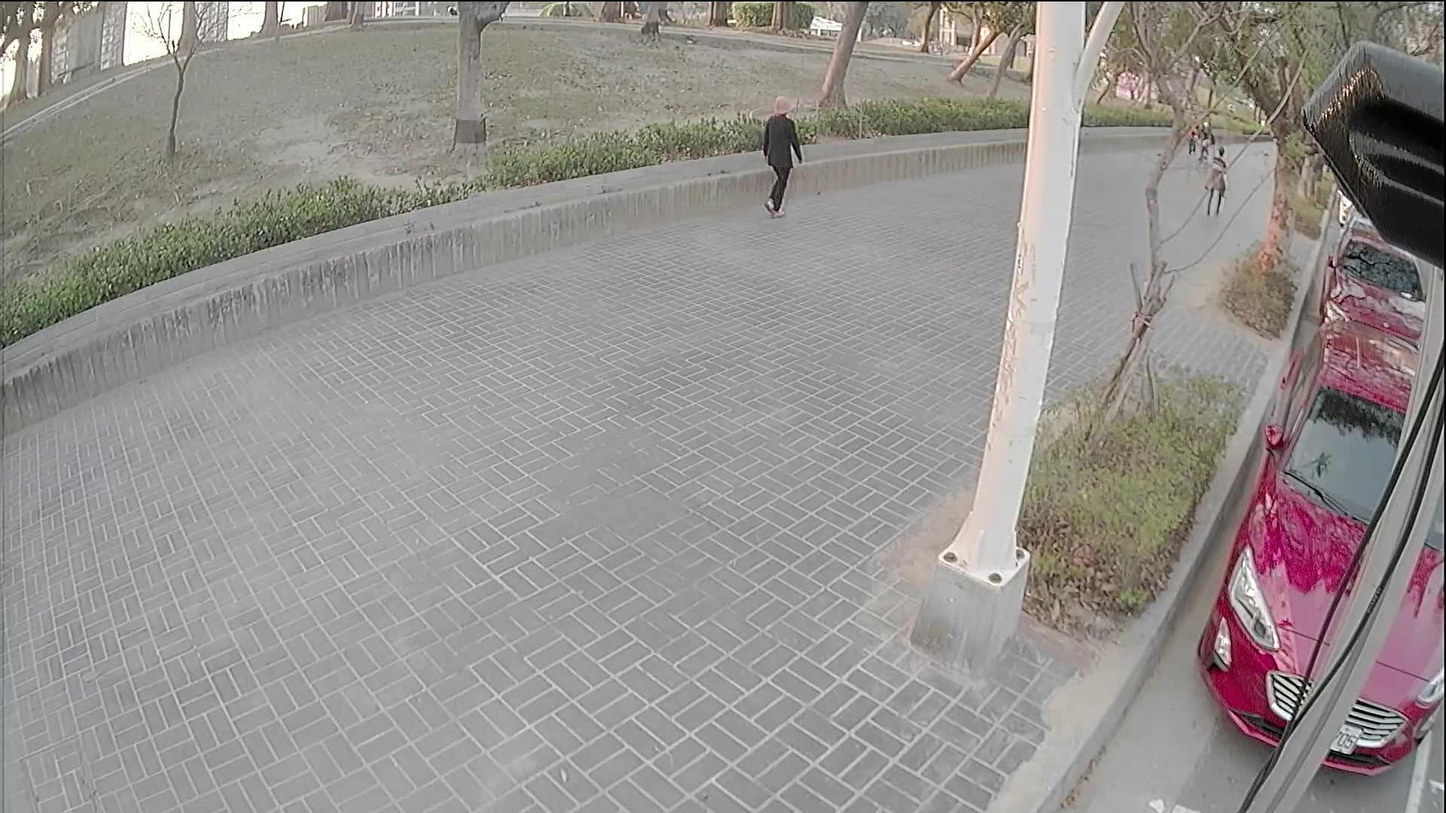person: (752, 97, 801, 216), (1197, 141, 1227, 217)
